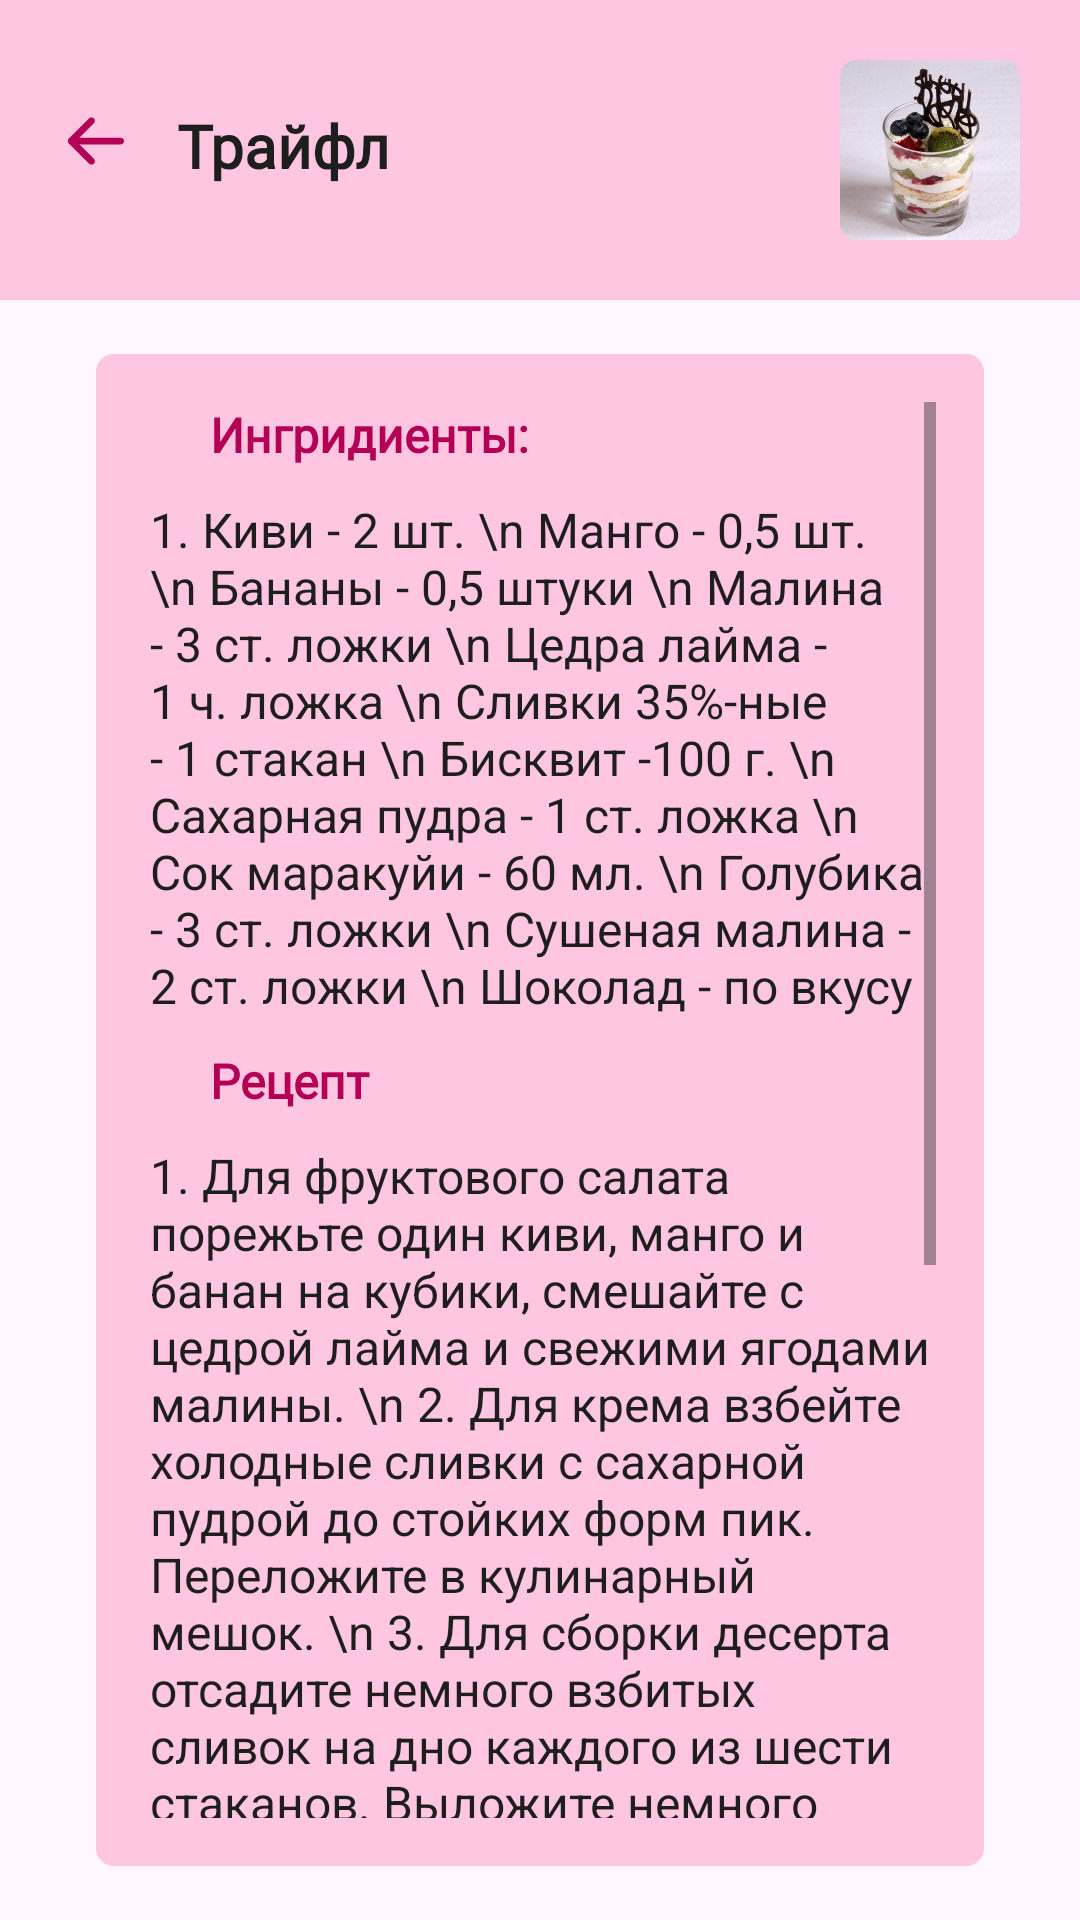

Where to tap for icons on this 1080×1920 app screen, as point (x, y):
second back: point (96, 141)
